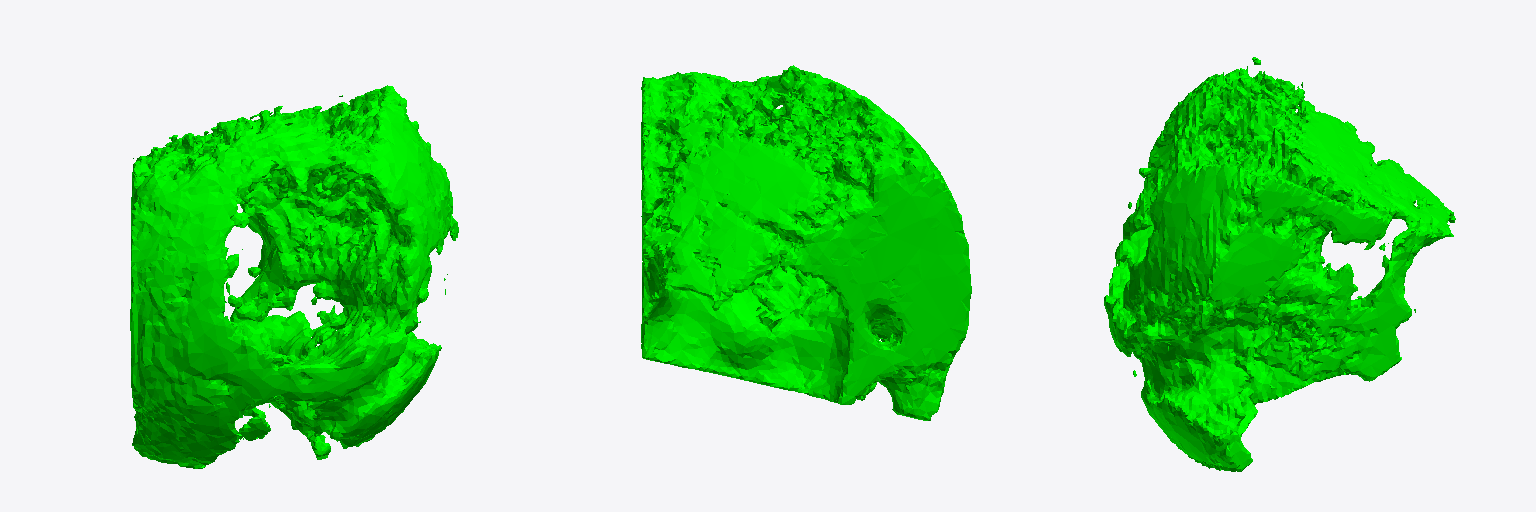
The model's file is B939XXXX-1_base_38.obj.
3 views of the same model, side by side, from view 1: azimuth 30°, elevation 25°; view 2: azimuth 150°, elevation 25°; view 3: azimuth 270°, elevation 25° (orthographic).
Visible parts, largest first — view 1: 38_base; view 2: 38_base; view 3: 38_base.
Boxes of the visible parts, x1,y1,x2,y2 form: 38_base: [130, 85, 458, 468]; 38_base: [641, 65, 971, 420]; 38_base: [1104, 57, 1455, 471].
Bounding box in the file's own units: 220 × 218 × 204.